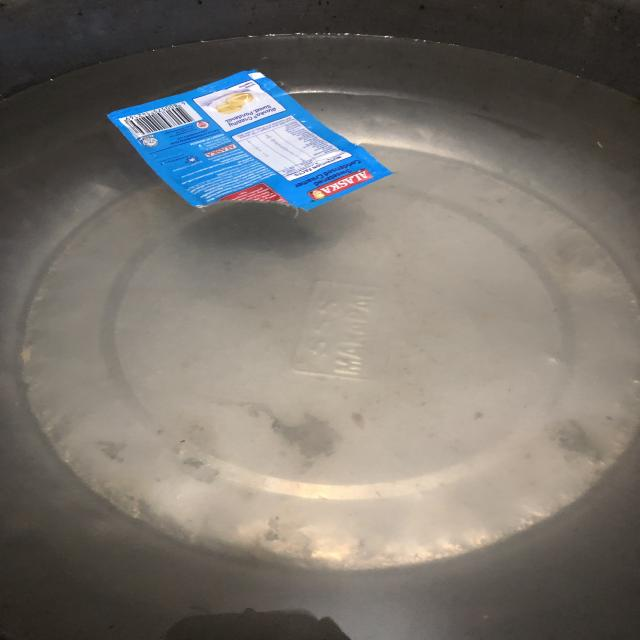Plastic Wrapper: (108, 70, 392, 210)
